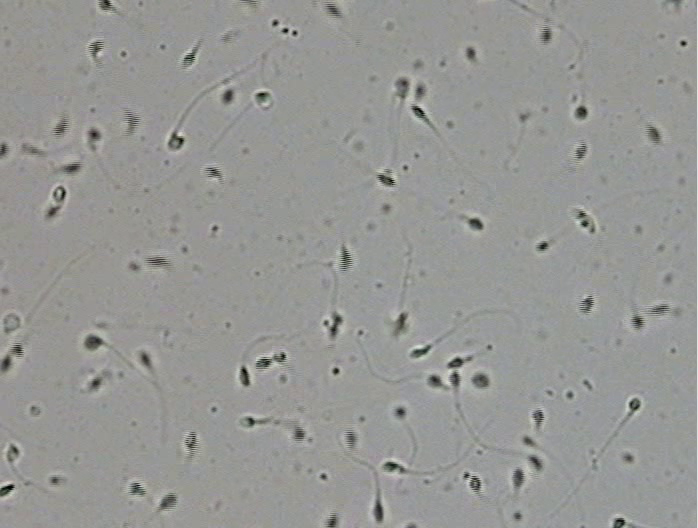S: (572, 207, 595, 233), (123, 109, 140, 134), (328, 313, 343, 339), (52, 117, 69, 137), (158, 493, 178, 510), (185, 431, 199, 455), (339, 248, 353, 272), (395, 78, 410, 99), (88, 40, 105, 58), (167, 132, 184, 150), (579, 295, 595, 314), (145, 255, 170, 267), (471, 373, 489, 389), (61, 162, 83, 175), (238, 365, 251, 387), (393, 313, 408, 332), (645, 125, 660, 144), (376, 173, 396, 187), (344, 429, 357, 450), (512, 467, 525, 488), (527, 454, 544, 470), (325, 2, 342, 18), (9, 341, 24, 359), (630, 314, 646, 330), (128, 482, 146, 496), (649, 304, 670, 316), (373, 500, 384, 522), (181, 52, 196, 68), (291, 426, 306, 442), (255, 357, 273, 370), (469, 475, 482, 493), (539, 25, 551, 44), (86, 128, 102, 142), (574, 105, 588, 121), (254, 91, 271, 104), (448, 370, 461, 387), (467, 218, 484, 231), (574, 142, 587, 159), (53, 185, 65, 203), (45, 205, 60, 219), (427, 374, 442, 388), (410, 347, 429, 358), (221, 88, 234, 104), (84, 335, 100, 348), (325, 512, 338, 528), (96, 1, 114, 12), (204, 167, 222, 178), (412, 105, 426, 119), (272, 351, 287, 364), (532, 409, 545, 424), (7, 444, 18, 461), (447, 357, 464, 368), (1, 483, 15, 496), (139, 352, 151, 367), (1, 356, 12, 372), (241, 416, 255, 428), (414, 83, 426, 97), (382, 461, 397, 472), (393, 406, 406, 418), (535, 241, 549, 252), (465, 46, 476, 60), (89, 377, 101, 389), (629, 398, 641, 410), (521, 435, 534, 446), (613, 517, 626, 528), (1, 141, 8, 157), (239, 1, 257, 7)
